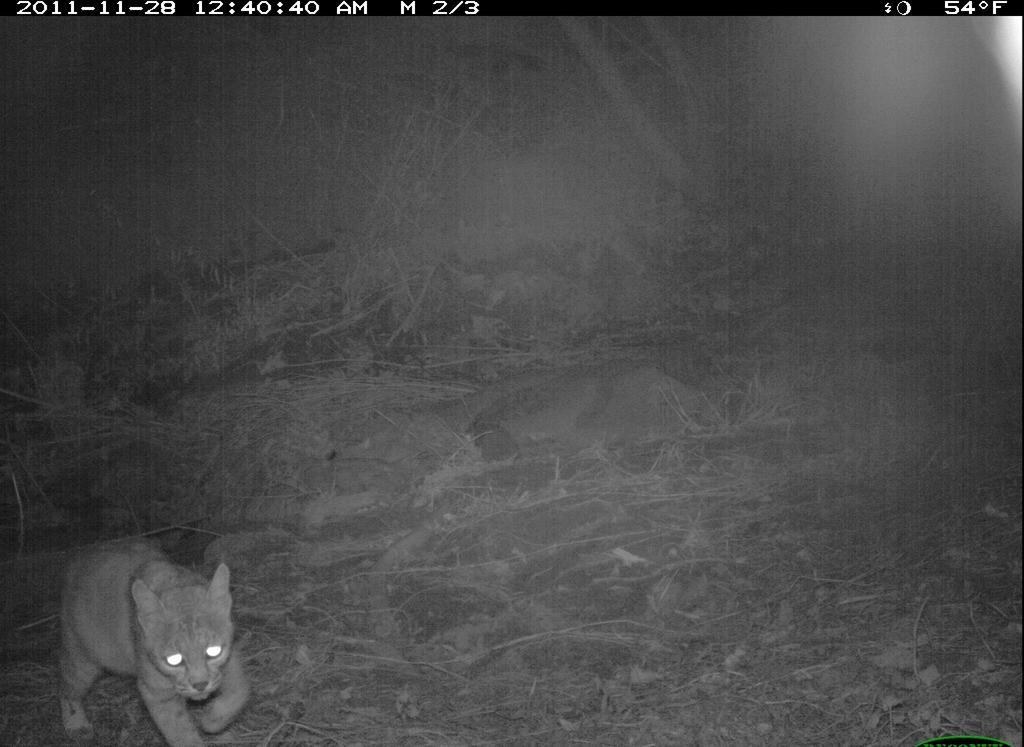bobcat: (52, 538, 262, 745)
